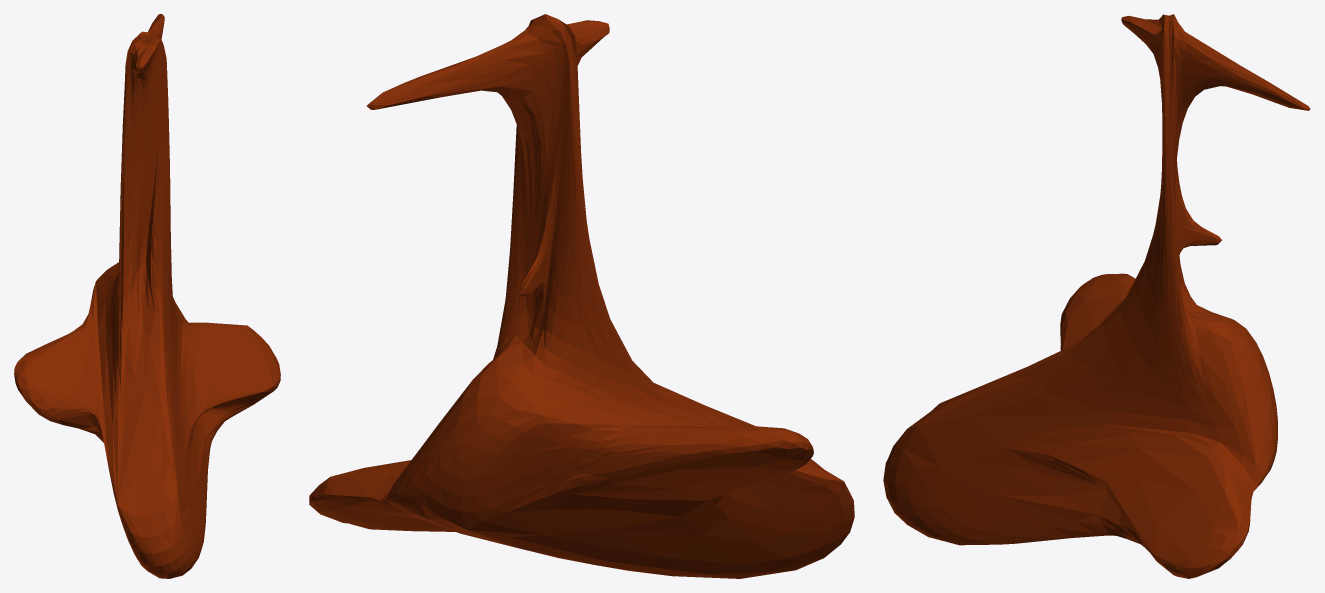
3 renders of one model, left to right at view 1: azimuth 30°, elevation 25°; view 2: azimuth 150°, elevation 25°; view 3: azimuth 270°, elevation 25°, orthographic. The views are drawn at different scales.
Parts seen in each view (by area): view 1: 221_Cube.908; view 2: 221_Cube.908; view 3: 221_Cube.908.
Boxes of the visible parts, box(x1,y1,x2,y2) form: 221_Cube.908: box(14, 14, 280, 578); 221_Cube.908: box(309, 14, 854, 578); 221_Cube.908: box(883, 14, 1310, 578).
Size of the model in its own units: 10.45 by 14.78 by 10.27.
